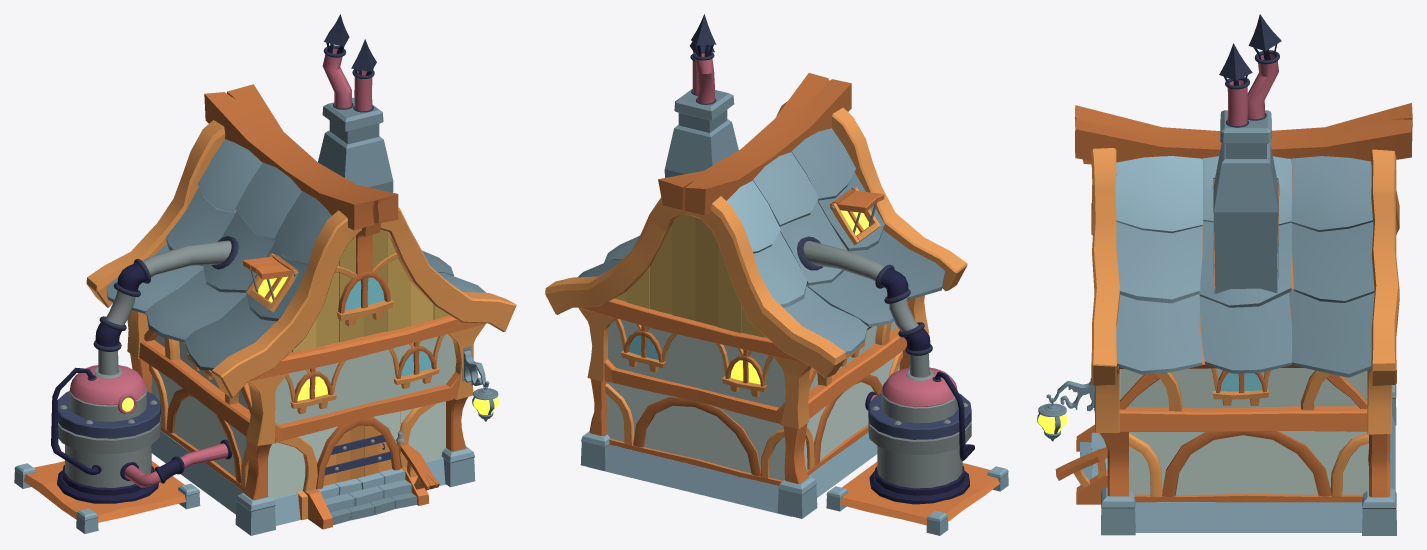
Rendered from UpgradeCenter.glb.
3 renders of one model, left to right at view 1: azimuth 30°, elevation 25°; view 2: azimuth 150°, elevation 25°; view 3: azimuth 270°, elevation 25°, orthographic. The views are drawn at different scales.
Visible parts, largest first — view 1: Cube.001, Cube.006, Cube.017, Cube.024, Cube.007, Cube.003, Cube.152, Cube.171, Cube.155, Cube, Cube.002, Cube.150 (+46 smaller); view 2: Cube.001, Cube.007, Cube.017, Cube, Cube.024, Cube.006, Cube.171, Cube.034, Cube.150, Cube.153, Cube.033, Cylinder.035 (+35 smaller); view 3: Cube.001, Cube.017, Cube.024, Cube, Cube.156, Cube.161, Cube.007, Cube.038, Cube.158, Cube.164, Cube.006, Cube.157 (+29 smaller).
Boxes of the visible parts, box(x1,y1,x2,y2) form: Cube.001: box(151, 334, 456, 498); Cube.006: box(211, 207, 516, 398); Cube.017: box(204, 84, 398, 230); Cube.024: box(318, 97, 393, 192); Cube.007: box(86, 120, 225, 307); Cube.003: box(250, 315, 486, 380); Cube.152: box(146, 269, 246, 342); Cube.171: box(23, 461, 186, 522); Cube.155: box(184, 295, 276, 370); Cube: box(151, 431, 445, 525); Cube.002: box(275, 371, 459, 443); Cube.150: box(235, 162, 301, 239); Cube.001: box(606, 319, 899, 480); Cube.007: box(545, 196, 845, 378); Cube.017: box(658, 73, 851, 215); Cube: box(588, 432, 877, 516); Cube.024: box(664, 89, 738, 177); Cube.006: box(776, 101, 967, 291); Cube.171: box(840, 462, 999, 525); Cube.034: box(579, 298, 804, 362); Cube.150: box(753, 152, 818, 226); Cube.153: box(791, 128, 856, 200); Cube.033: box(604, 359, 784, 423); Cylinder.035: box(803, 240, 933, 380); Cube.001: box(1119, 368, 1368, 495); Cube.017: box(1075, 103, 1412, 162); Cube.024: box(1213, 110, 1278, 293); Cube: box(1135, 415, 1395, 532); Cube.156: box(1115, 156, 1203, 233); Cube.161: box(1199, 288, 1291, 373); Cube.007: box(1370, 149, 1399, 385); Cube.038: box(1119, 406, 1367, 431); Cube.158: box(1116, 294, 1202, 374); Cube.164: box(1289, 289, 1374, 377); Cube.006: box(1090, 148, 1119, 385); Cube.157: box(1116, 222, 1202, 303).
Size of the model in its own units: 16.34 by 17.5 by 12.23.
